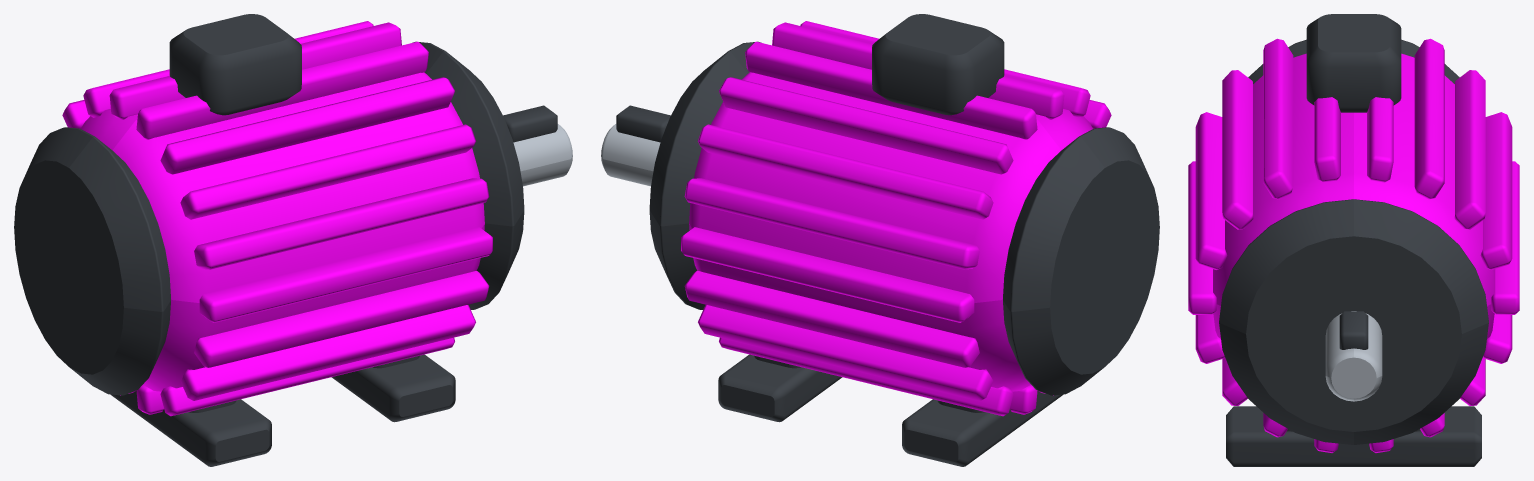
The model's file is objet_moteur.glb.
The picture shows the model from 3 angles, left to right: view 1: azimuth 30°, elevation 25°; view 2: azimuth 150°, elevation 25°; view 3: azimuth 270°, elevation 25°; orthographic projection.
Visible parts, largest first — view 1: moteur_teinte.004, moteur_teinte_sombre.004, moteur_gris_clair.004; view 2: moteur_teinte.004, moteur_teinte_sombre.004, moteur_gris_clair.004; view 3: moteur_teinte_sombre.004, moteur_teinte.004, moteur_gris_clair.004.
Part boxes in pixels (x1,y1,x2,y2): moteur_teinte.004: (62, 21, 492, 416); moteur_teinte_sombre.004: (14, 14, 557, 466); moteur_gris_clair.004: (513, 124, 572, 186); moteur_teinte.004: (681, 21, 1111, 416); moteur_teinte_sombre.004: (616, 14, 1159, 466); moteur_gris_clair.004: (601, 124, 660, 186); moteur_teinte_sombre.004: (1219, 14, 1488, 466); moteur_teinte.004: (1188, 38, 1519, 452); moteur_gris_clair.004: (1325, 311, 1382, 401).
Bounding box in the file's own units: 0.295 × 0.21 × 0.175.
